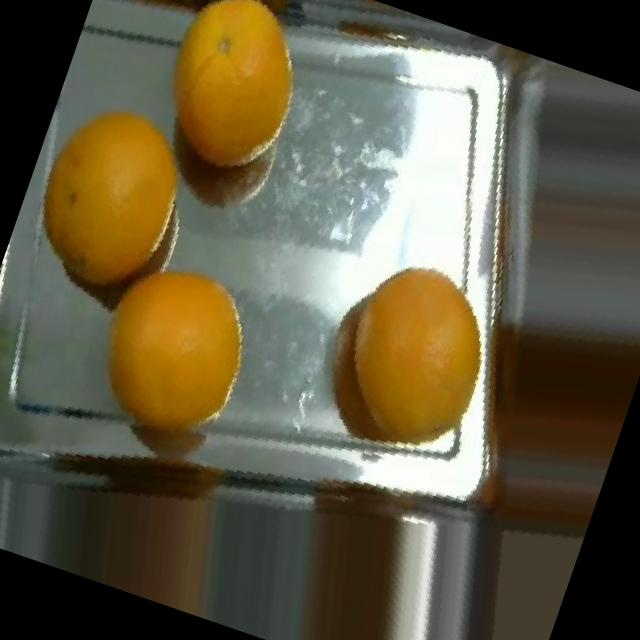Fruit: (42, 222, 290, 488), (0, 63, 233, 331), (101, 0, 346, 215)
